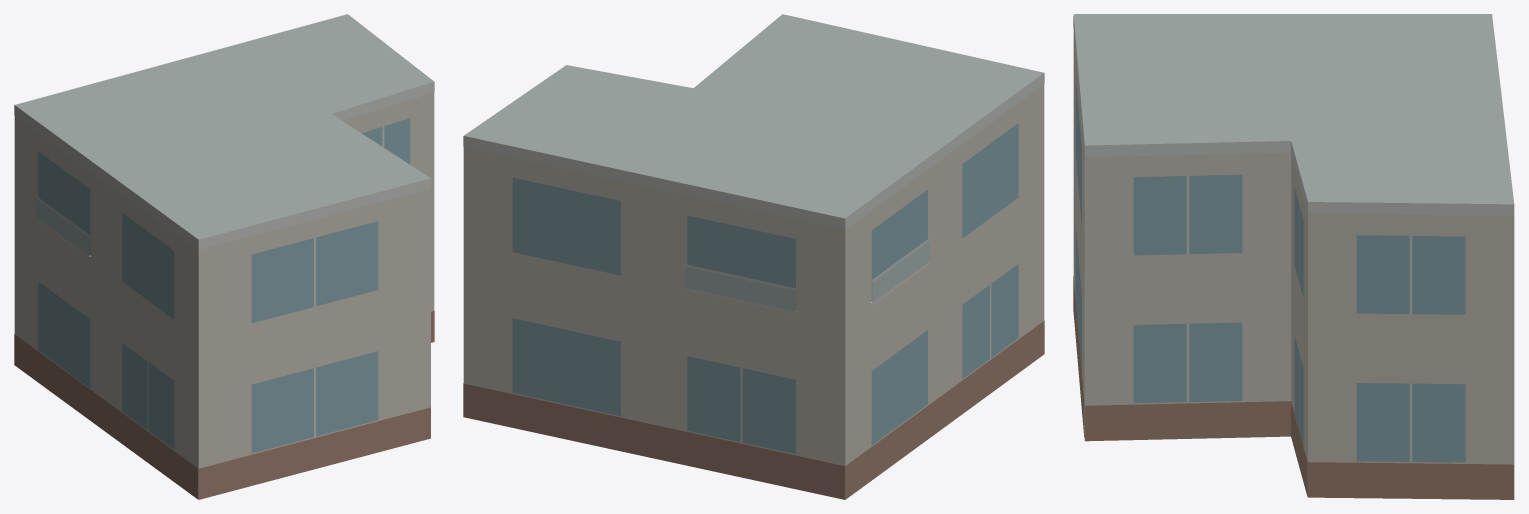
The model's file is survey-upis-33004437.glb.
3 renders of one model, left to right at view 1: azimuth 30°, elevation 25°; view 2: azimuth 150°, elevation 25°; view 3: azimuth 270°, elevation 25°, orthographic. The views are drawn at different scales.
Parts seen in each view (by area): view 1: survey-upis-33004437.tmp; view 2: survey-upis-33004437.tmp; view 3: survey-upis-33004437.tmp.
Boxes of the visible parts, left/top/right/bottom form: survey-upis-33004437.tmp: left=14, top=14, right=434, bottom=499; survey-upis-33004437.tmp: left=463, top=14, right=1044, bottom=499; survey-upis-33004437.tmp: left=1073, top=14, right=1514, bottom=499.
Bounding box in the file's own units: 8.46 × 6.1 × 8.26.
